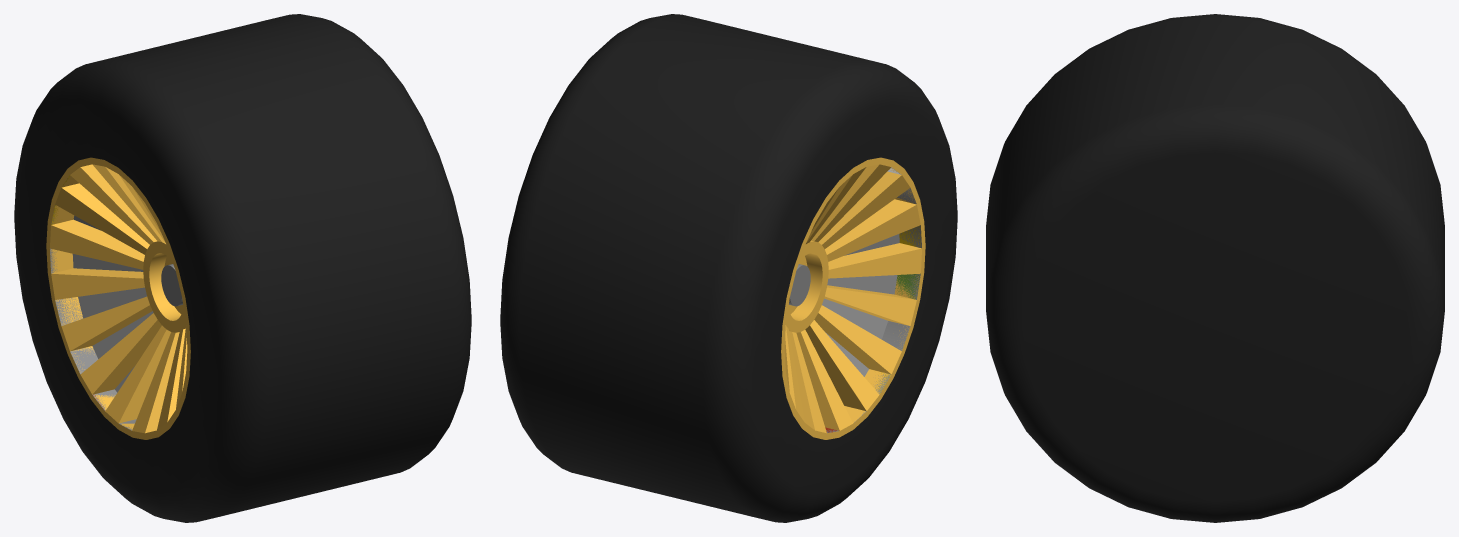
File: wheel 1.fbx
3 views of the same model, side by side, from view 1: azimuth 30°, elevation 25°; view 2: azimuth 150°, elevation 25°; view 3: azimuth 270°, elevation 25° (orthographic). The views are drawn at different scales.
Parts seen in each view (by area): view 1: wheel; view 2: wheel; view 3: wheel.
Boxes of the visible parts, x1=… form: wheel: x1=14, y1=14, x2=471, y2=522; wheel: x1=500, y1=14, x2=957, y2=522; wheel: x1=986, y1=14, x2=1444, y2=522.
Size of the model in its own units: 0.3421 by 0.5641 by 0.5641.
